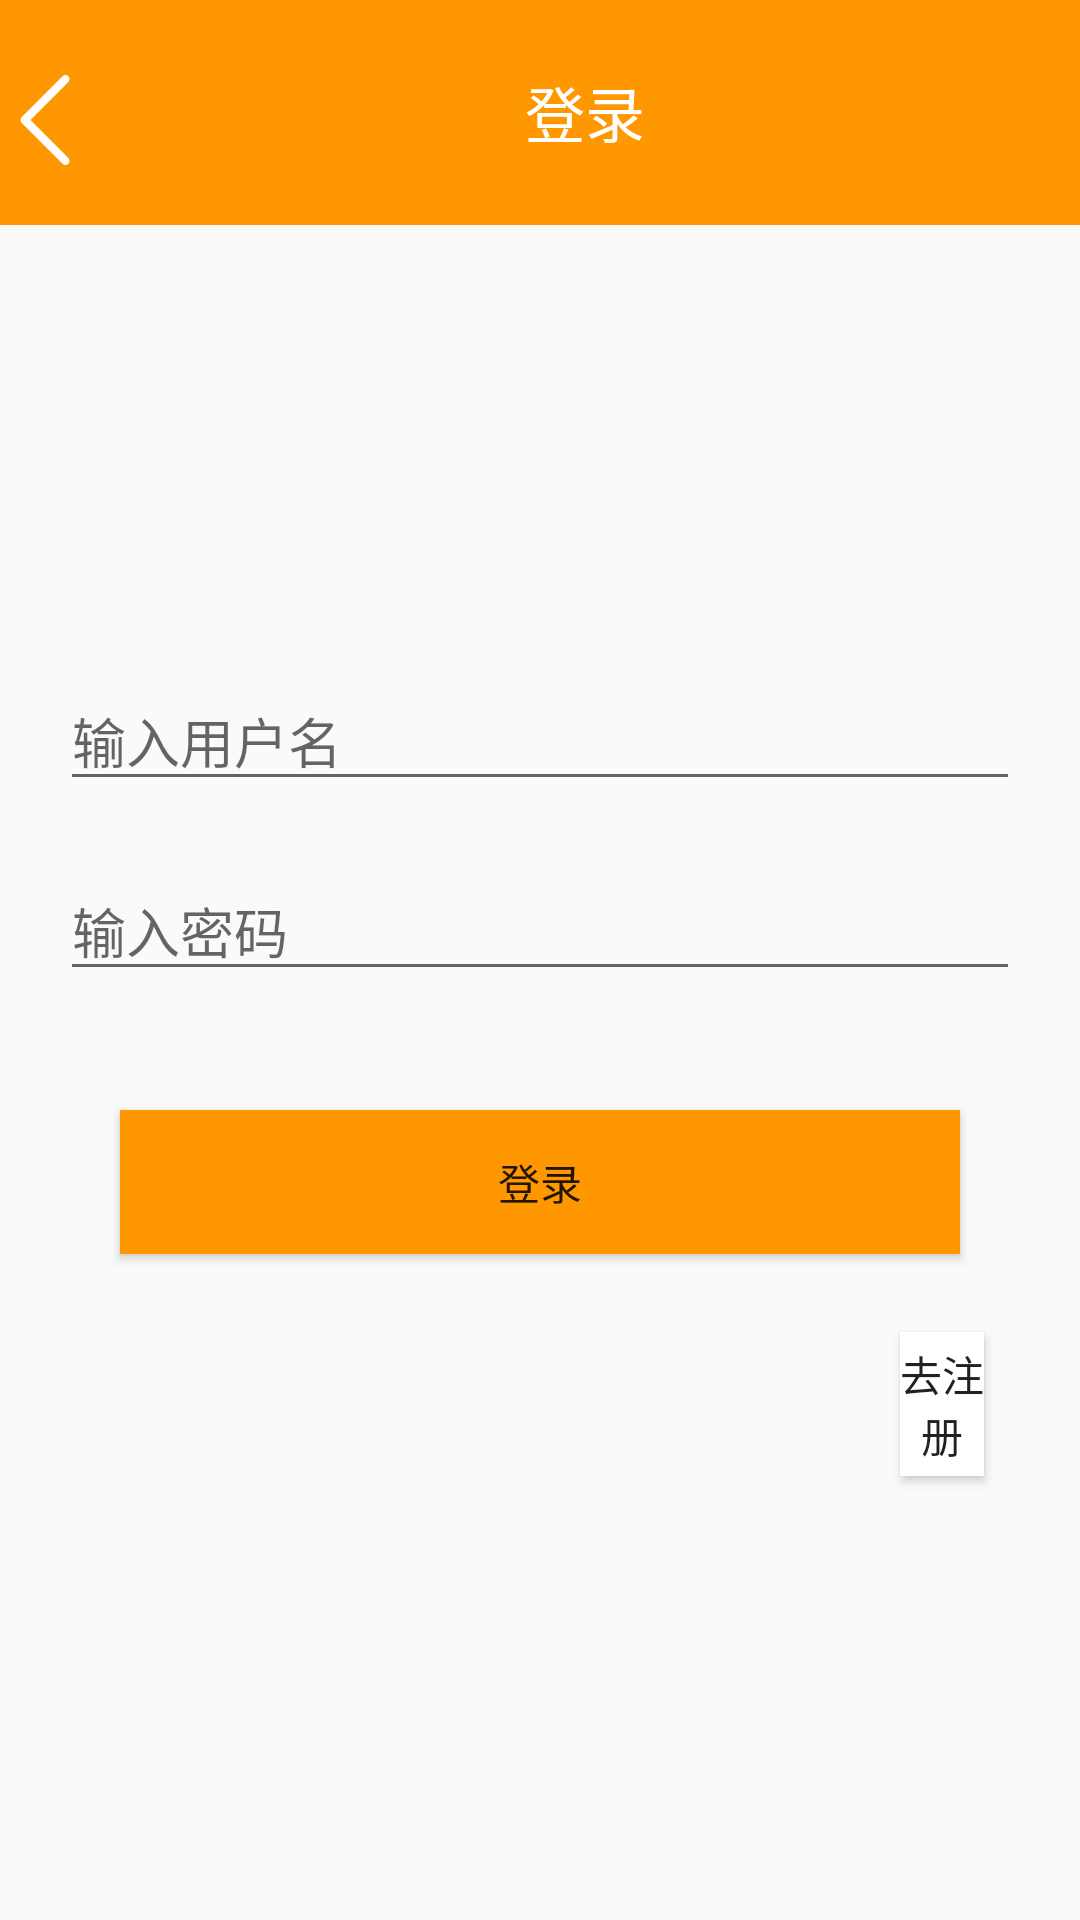

Screen size 1080w x 1920h. Icon name, then its center in pixels as (x=x, y=y):
arrow back: (x=45, y=120)
